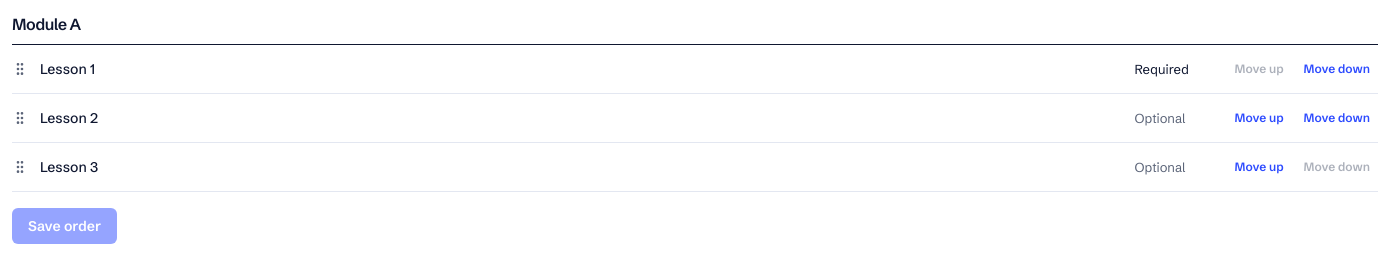
Test: ArrangeBoard — keyboard parity › 'Save order' is disabled before any change and enabled after one
expect the button "Save order" is disabled: met, box [12, 208, 117, 244]
Click the button with aria-label "Move Lesson 3 up". click: (1259, 167)
box: [1226, 155, 1292, 179]
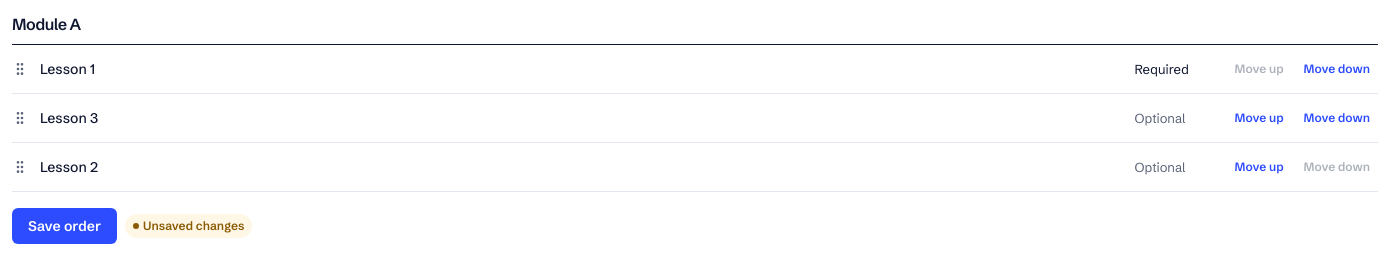
expect the button "Save order" is enabled: met, box [12, 208, 117, 244]
